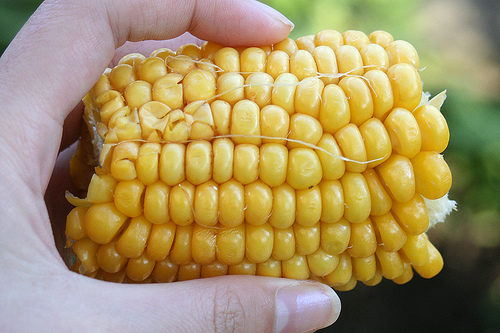corn: (61, 27, 460, 294)
